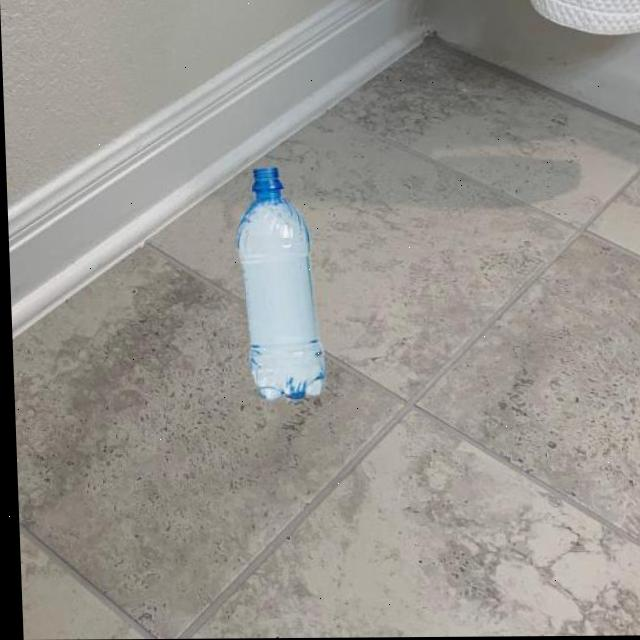bottle: (230, 165, 325, 401)
